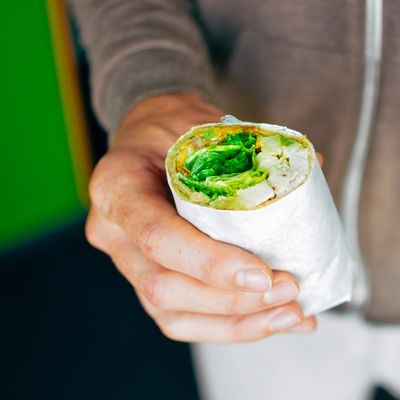pizza: (77, 0, 365, 399)
